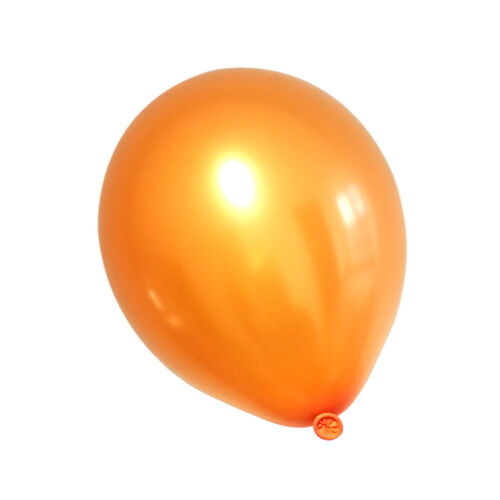Balloon: (98, 68, 407, 429)
